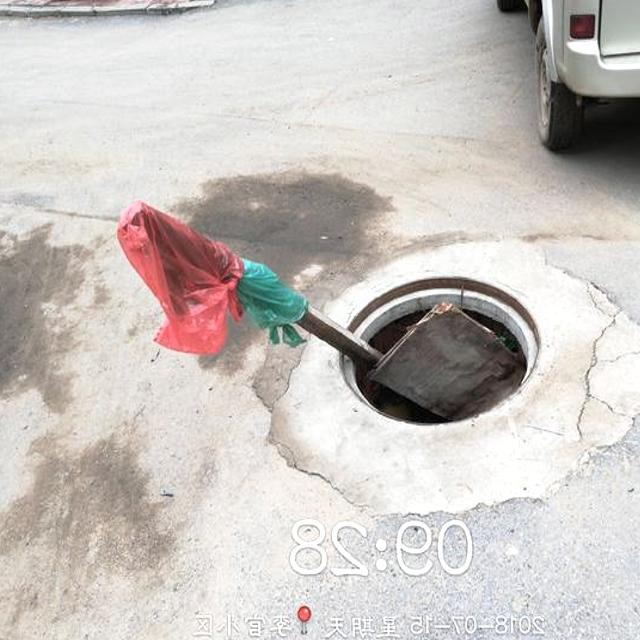lose: (319, 258, 576, 444)
